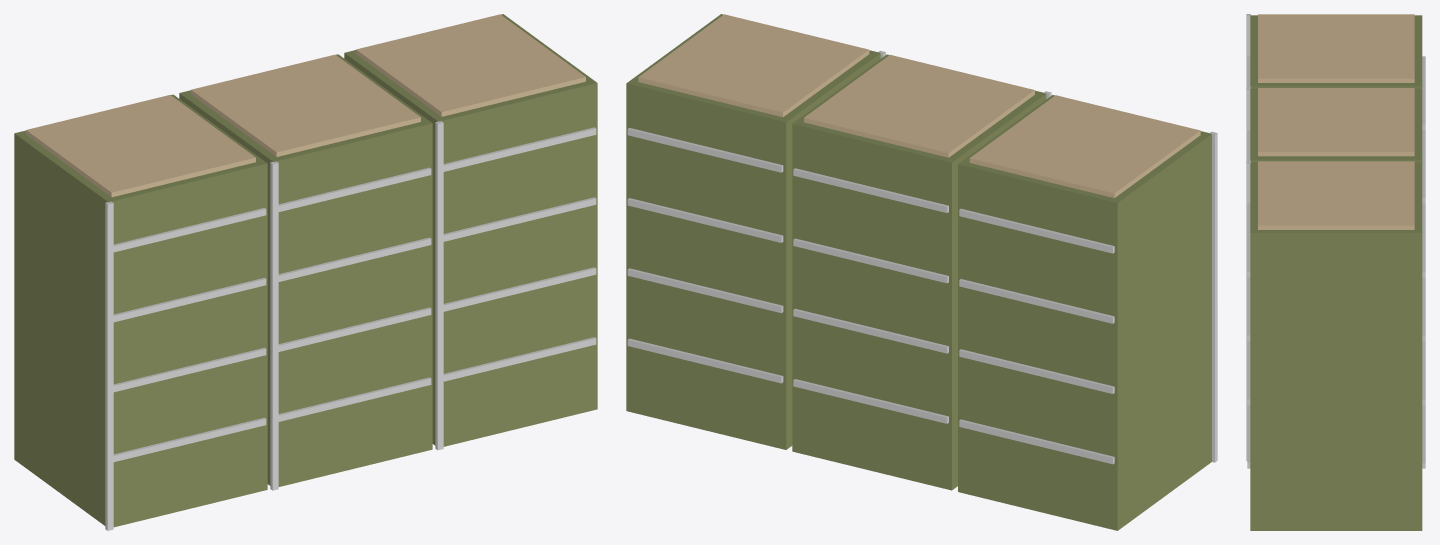
Rendered from SM_HescoCorto3_v0_MallaLimpia_e0_Sano_LOD0.fbx.
The picture shows the model from 3 angles, left to right: view 1: azimuth 30°, elevation 25°; view 2: azimuth 150°, elevation 25°; view 3: azimuth 270°, elevation 25°; orthographic projection. The views are drawn at different scales.
Parts seen in each view (by area): view 1: SM_hesco_piezas_v80_LOD0; view 2: SM_hesco_piezas_v80_LOD0; view 3: SM_hesco_piezas_v80_LOD0.
Part boxes in pixels (<box>): SM_hesco_piezas_v80_LOD0: <box>14,14,597,530</box>; SM_hesco_piezas_v80_LOD0: <box>626,14,1217,530</box>; SM_hesco_piezas_v80_LOD0: <box>1246,14,1425,530</box>.
Bounding box in the file's own units: 3.31 × 2.13 × 1.14.
